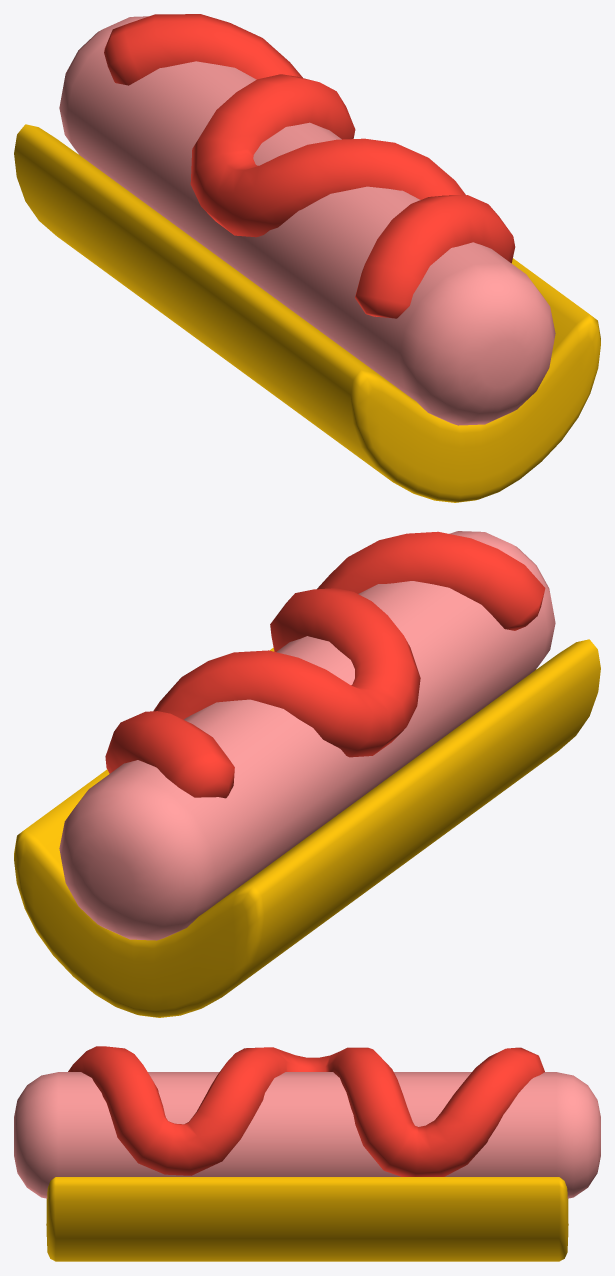
File: City_3_Hot_Dog_3.glb
3 views of the same model, one above another, from view 1: azimuth 30°, elevation 25°; view 2: azimuth 150°, elevation 25°; view 3: azimuth 270°, elevation 25° (orthographic). The views are drawn at different scales.
Parts seen in each view (by area): view 1: City_3_Hot_Dog_3; view 2: City_3_Hot_Dog_3; view 3: City_3_Hot_Dog_3.
Boxes of the visible parts, x1,y1,x2,y2 form: City_3_Hot_Dog_3: (14, 14, 600, 502); City_3_Hot_Dog_3: (14, 531, 600, 1017); City_3_Hot_Dog_3: (14, 1046, 600, 1261).
Bounding box in the file's own units: 0.1644 × 0.1679 × 0.4448.
1 material, 1 textured.
